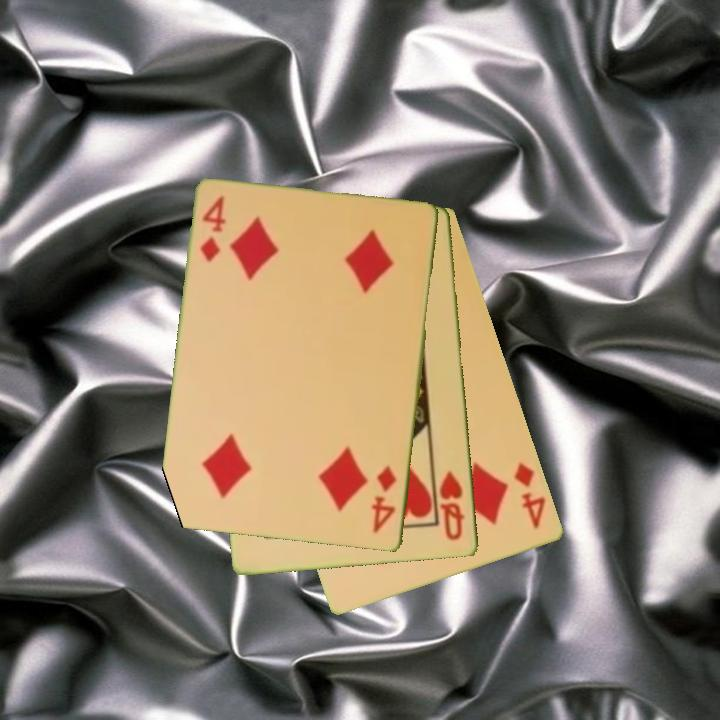4d: (511, 459, 549, 532), (368, 461, 400, 537), (197, 192, 229, 265)
Qh: (436, 468, 468, 544)
